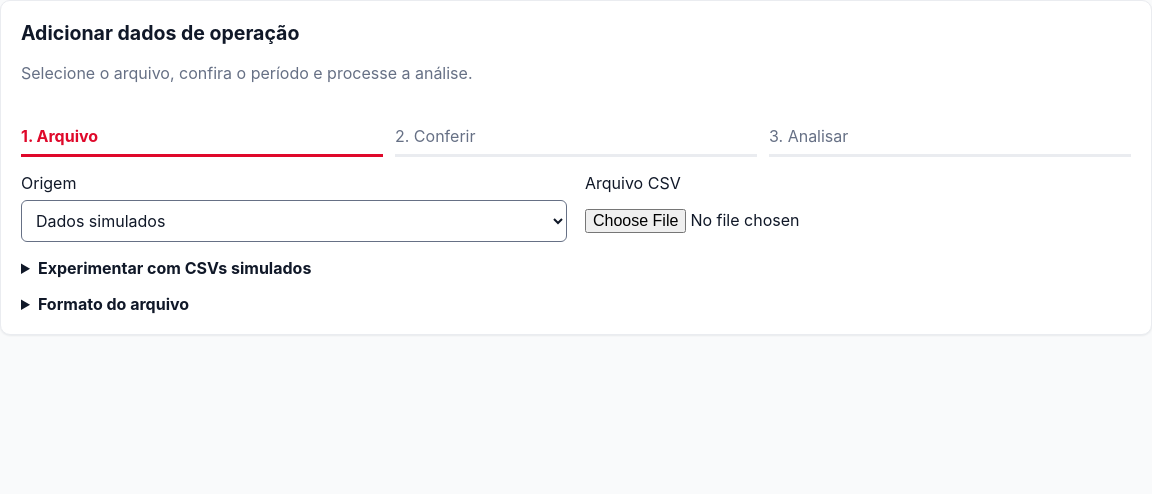
Test case: entrada de máquinas e dados › erro de validação impede o processamento
Click the heading "Experimentar com CSVs simulados": [175, 268] box [38,258,311,278]
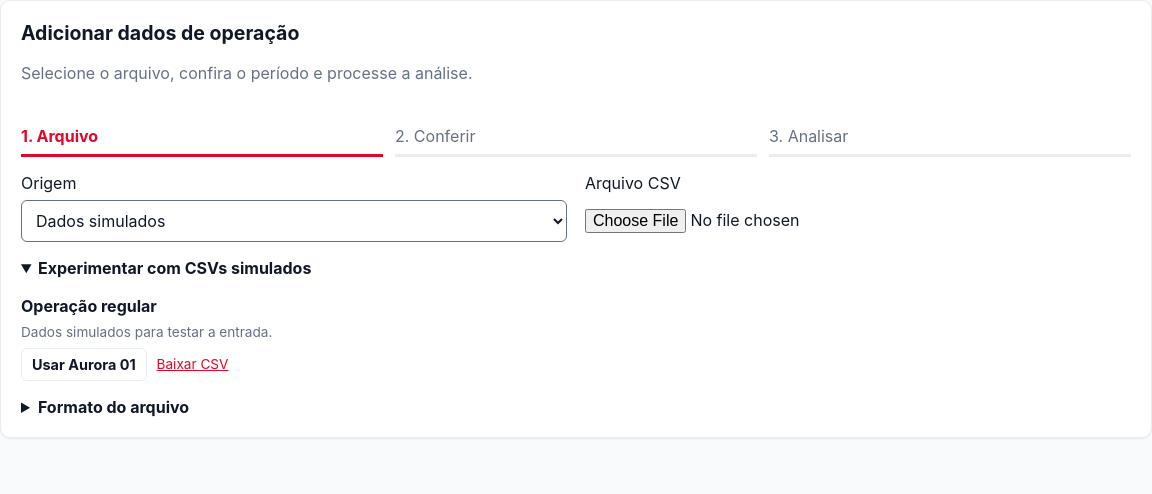
Click the button "Usar Aurora 01": [84, 364] box [21,348,147,381]
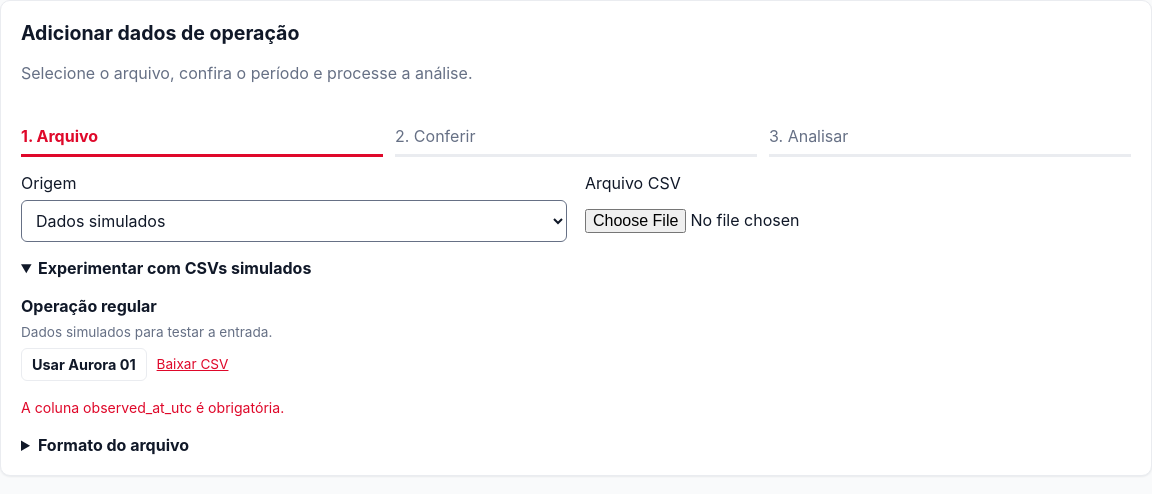
Result: the message shows "observed_at_utc" at [21,399,284,416]
